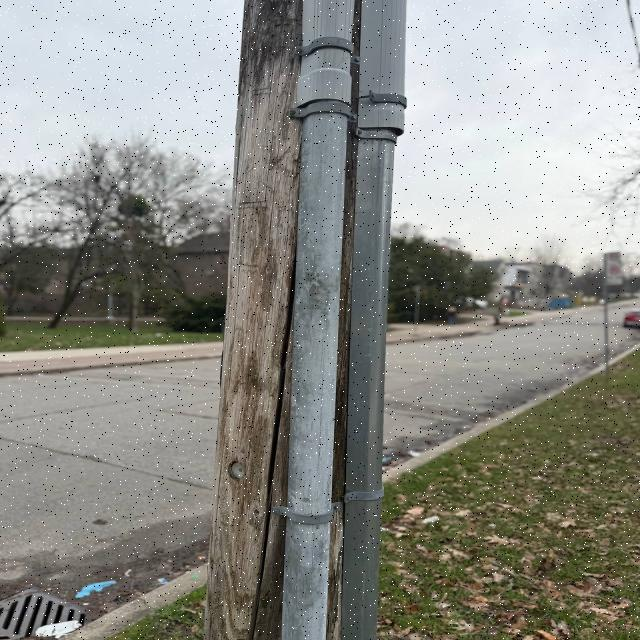Electrical Pole: (198, 0, 422, 640)
